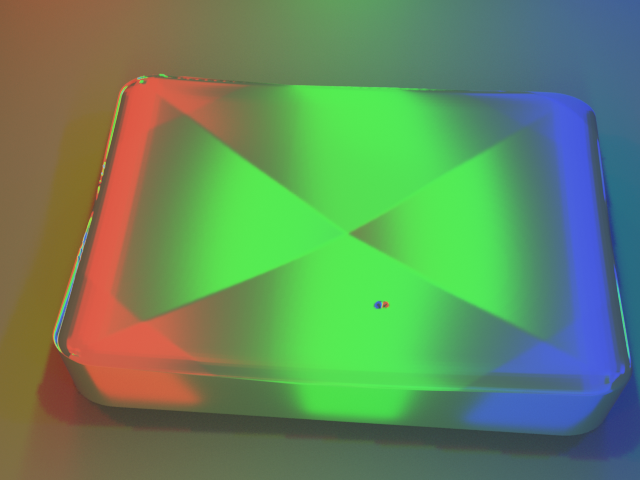dent: (369, 294, 404, 329)
smash: (0, 0, 639, 479)
